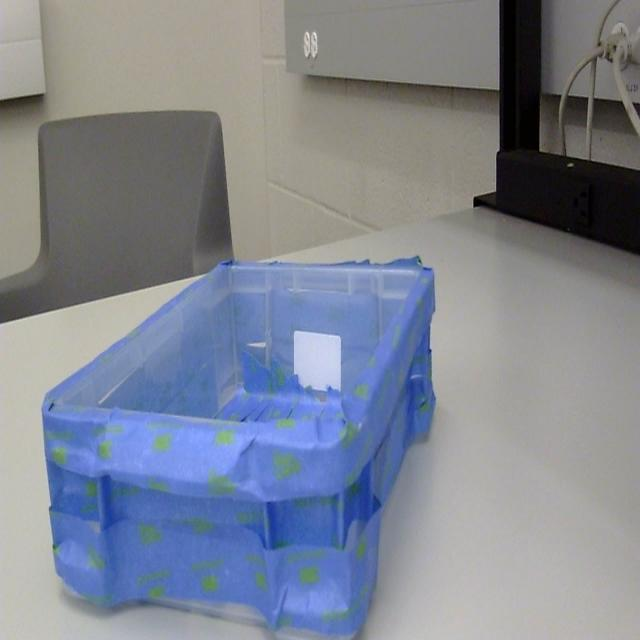bucket: (40, 257, 436, 640)
